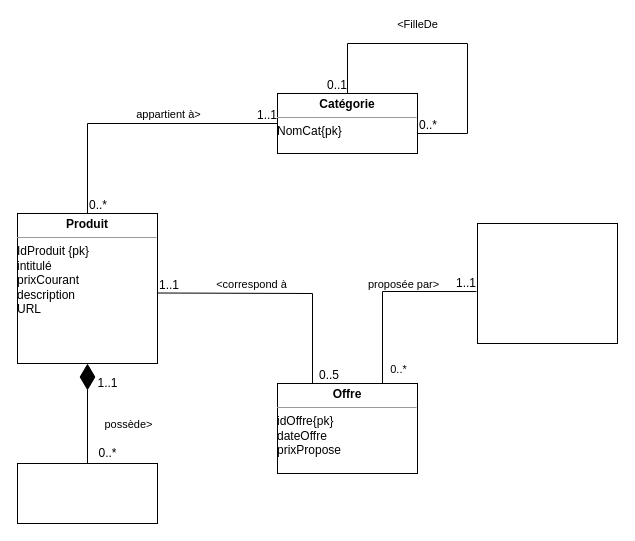
Image size: 635x541. Some labels were removed from this diagram. The shapes that lost their labels are listed below. From the top down, each one's centre as x and y in pixels, then its label:
At (x=547, y=283): "Client email{pk} mdp nom prenom dateNaissance addrPostale".
At (x=87, y=493): "Caracteristiques nomCara{pk} valeur".
